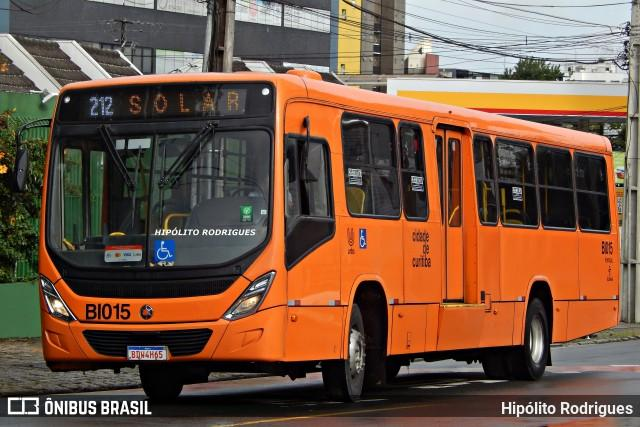SOLAR: (123, 87, 243, 119)
